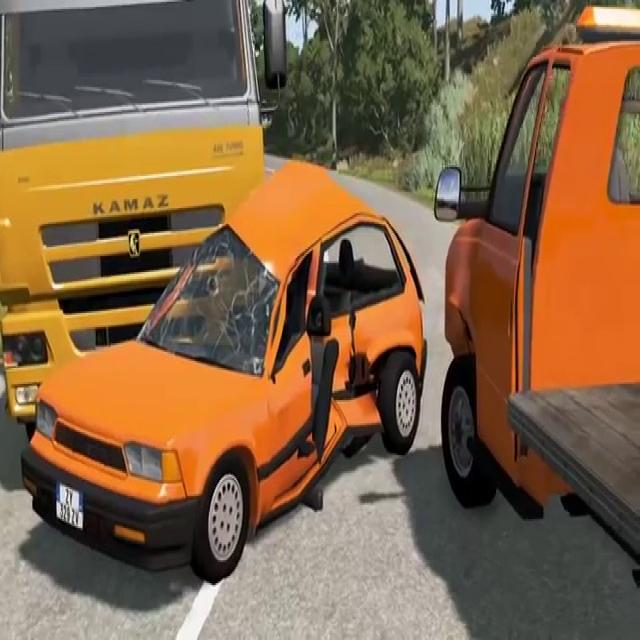severe: (0, 0, 430, 587)
